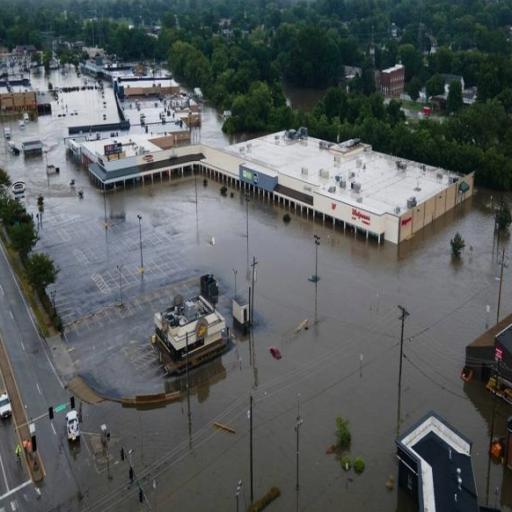flood: (83, 191, 512, 512), (110, 178, 246, 293), (0, 66, 118, 193), (193, 103, 263, 146), (284, 83, 328, 110)
house: (222, 127, 476, 247), (390, 402, 508, 512), (90, 148, 202, 200), (154, 289, 226, 365), (467, 292, 512, 390), (0, 81, 40, 118), (118, 78, 182, 98), (382, 63, 405, 95)
